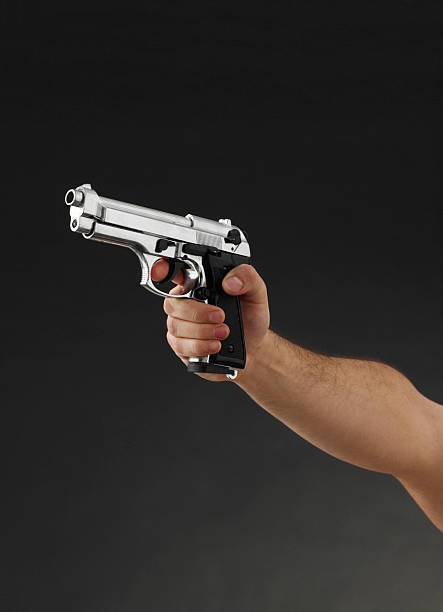gun: (64, 182, 262, 385)
